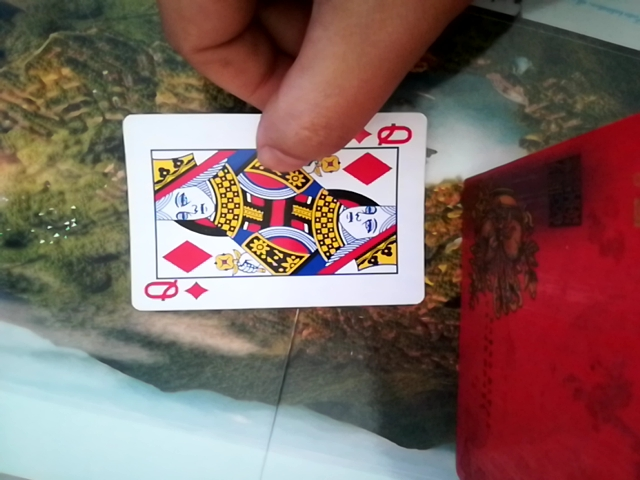fk q: (116, 101, 428, 315)
